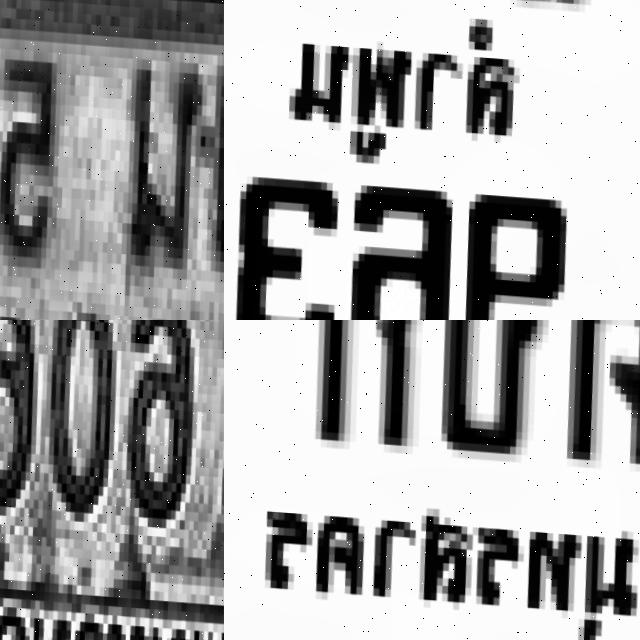license-plate: (224, 0, 640, 320), (224, 320, 640, 640), (0, 0, 224, 320), (0, 320, 224, 640)
